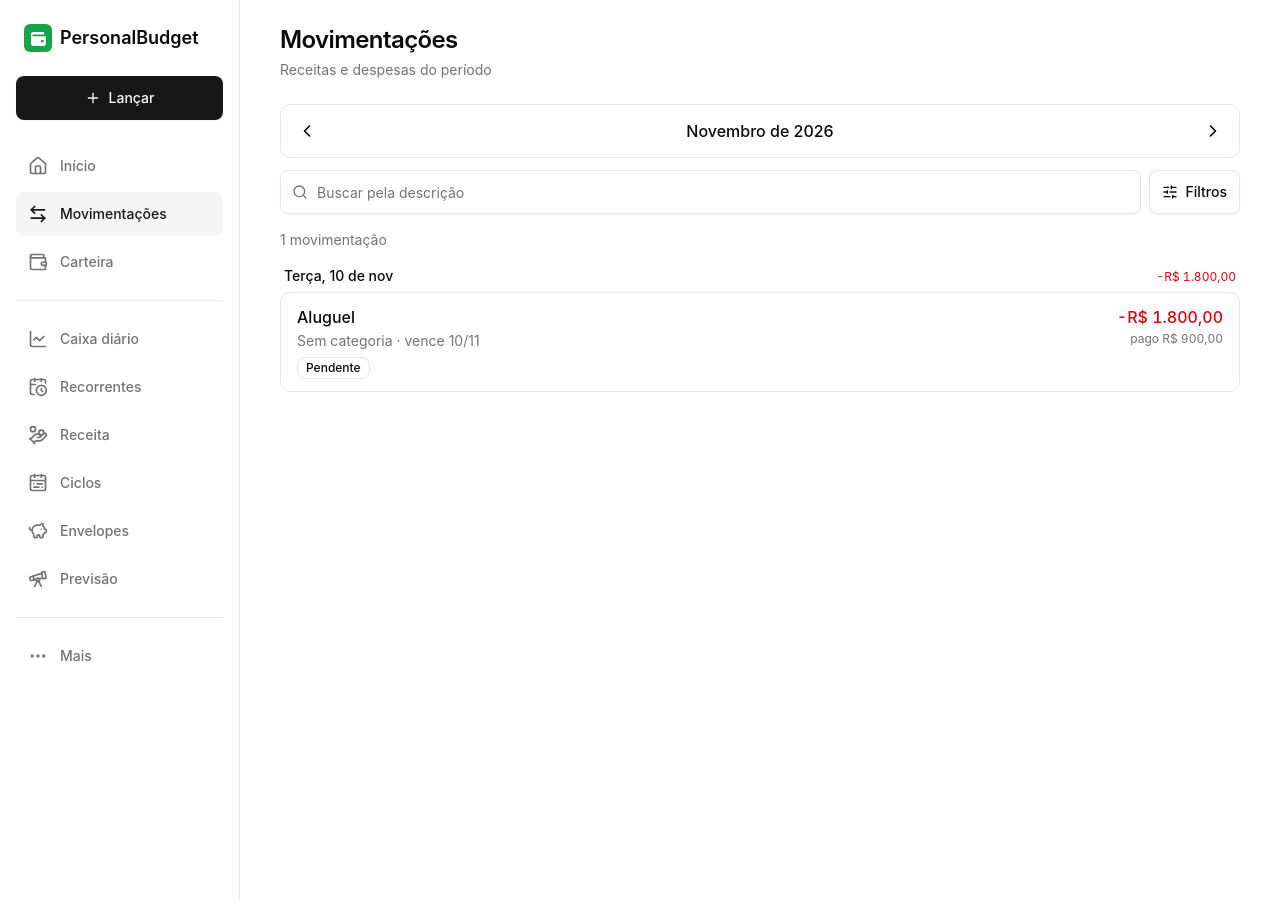
MovementSheet › should pay what is still owed, on today by default
The width and height of the screenshot is (1280, 900).
Step 1. Click the button "Aluguel" → {"x": 326, "y": 317}, box [281, 293, 1239, 391]
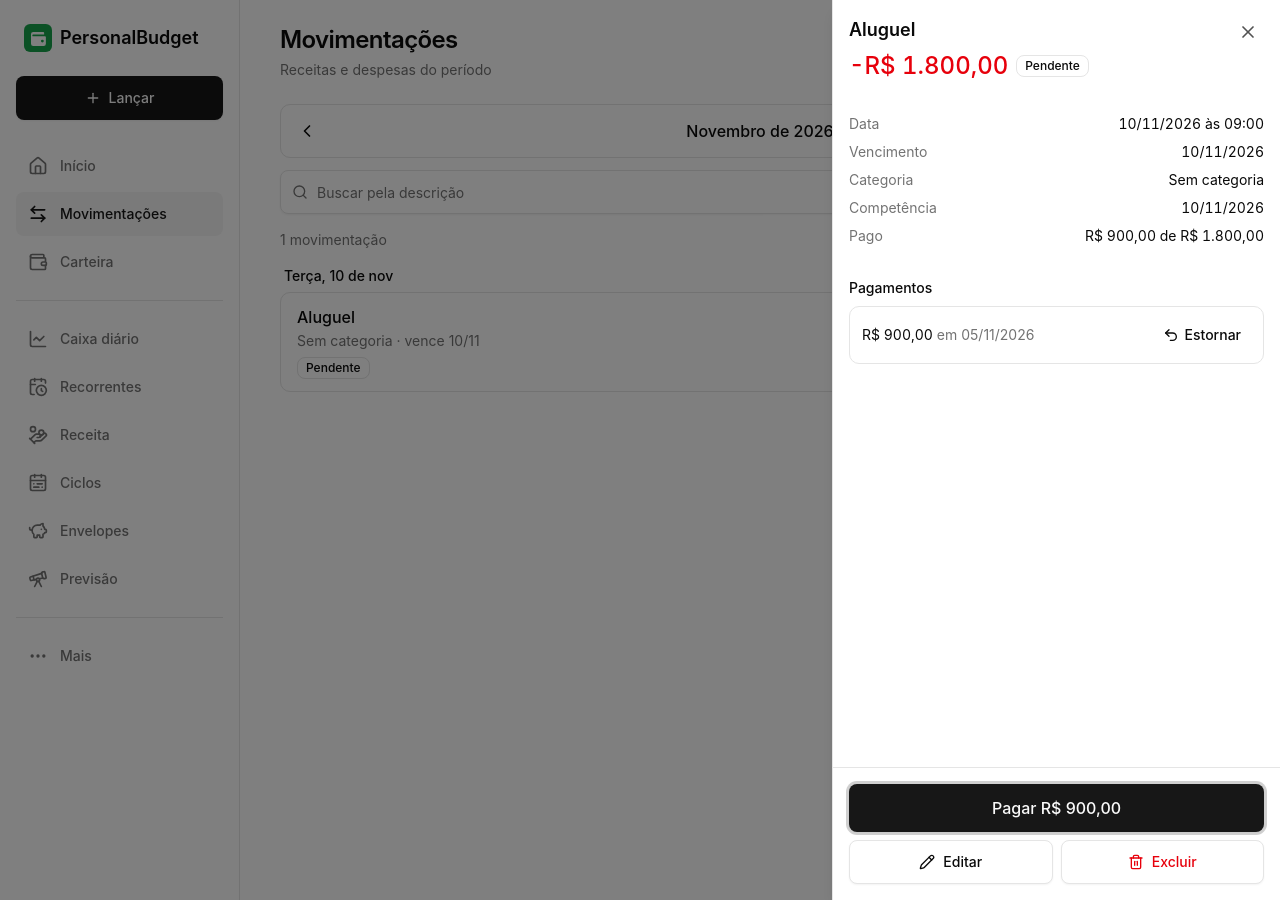
Now the text "R$ 900,00 de R$ 1.800,00" is shown, box [1085, 227, 1264, 244]
Step 2. Click the button "Pagar R$ 900,00" → {"x": 1056, "y": 808}, box [849, 784, 1264, 832]
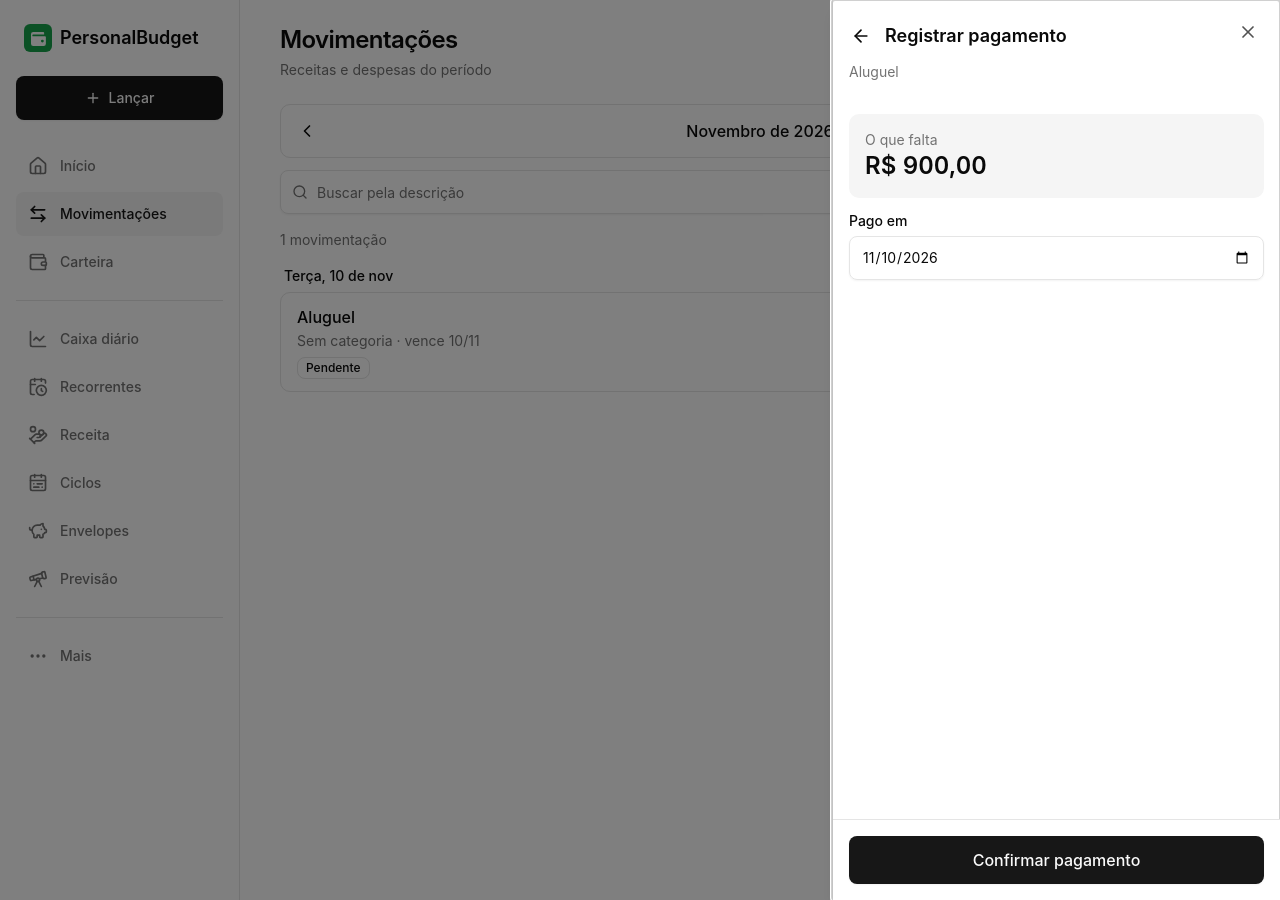
Now the date field labelled "Pago em" holds "2026-11-10", box [849, 236, 1264, 280]
Step 3. Click the button "Confirmar pagamento" → {"x": 1056, "y": 860}, box [849, 836, 1264, 884]
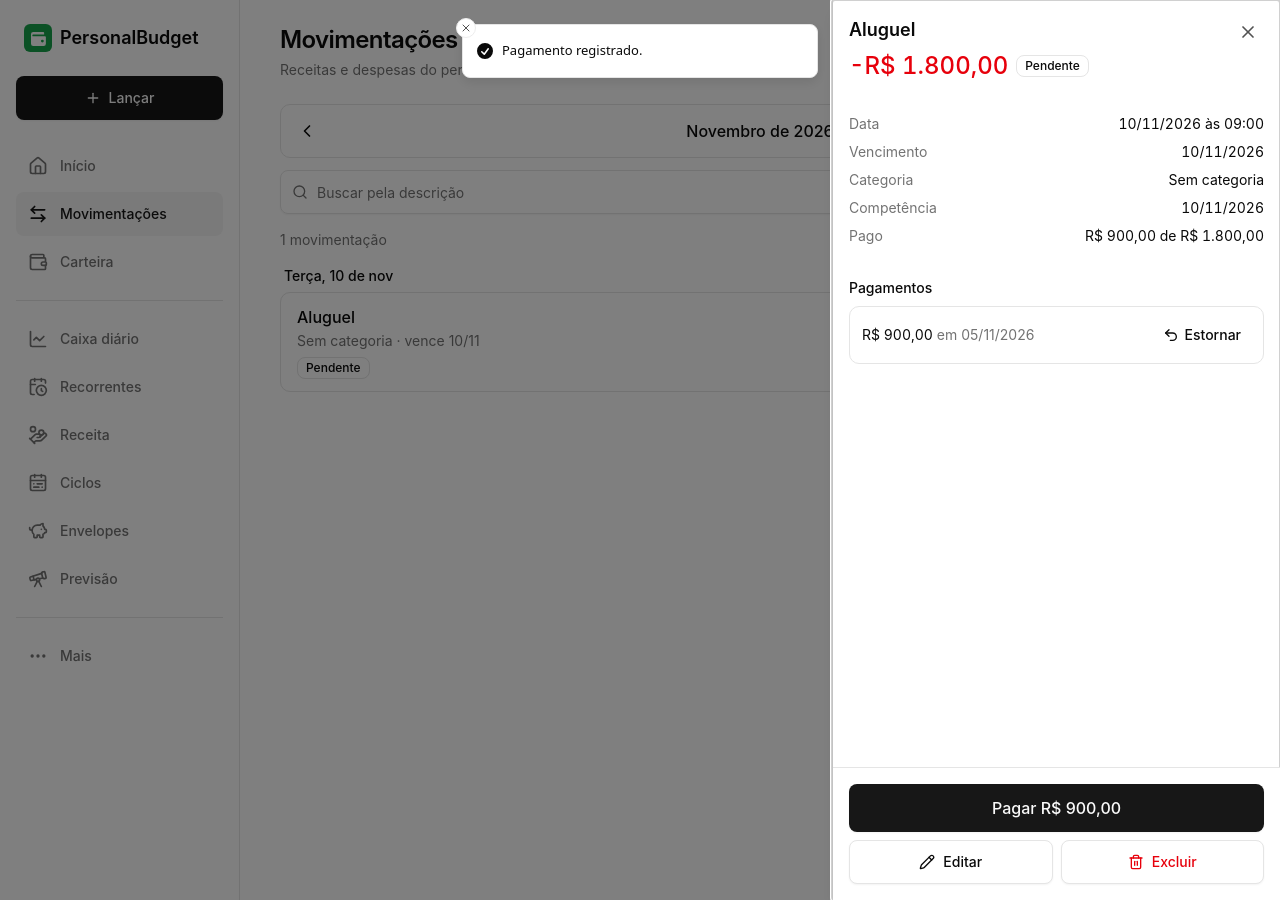
Now the text "Pagamento registrado." is shown, box [502, 41, 642, 60]
